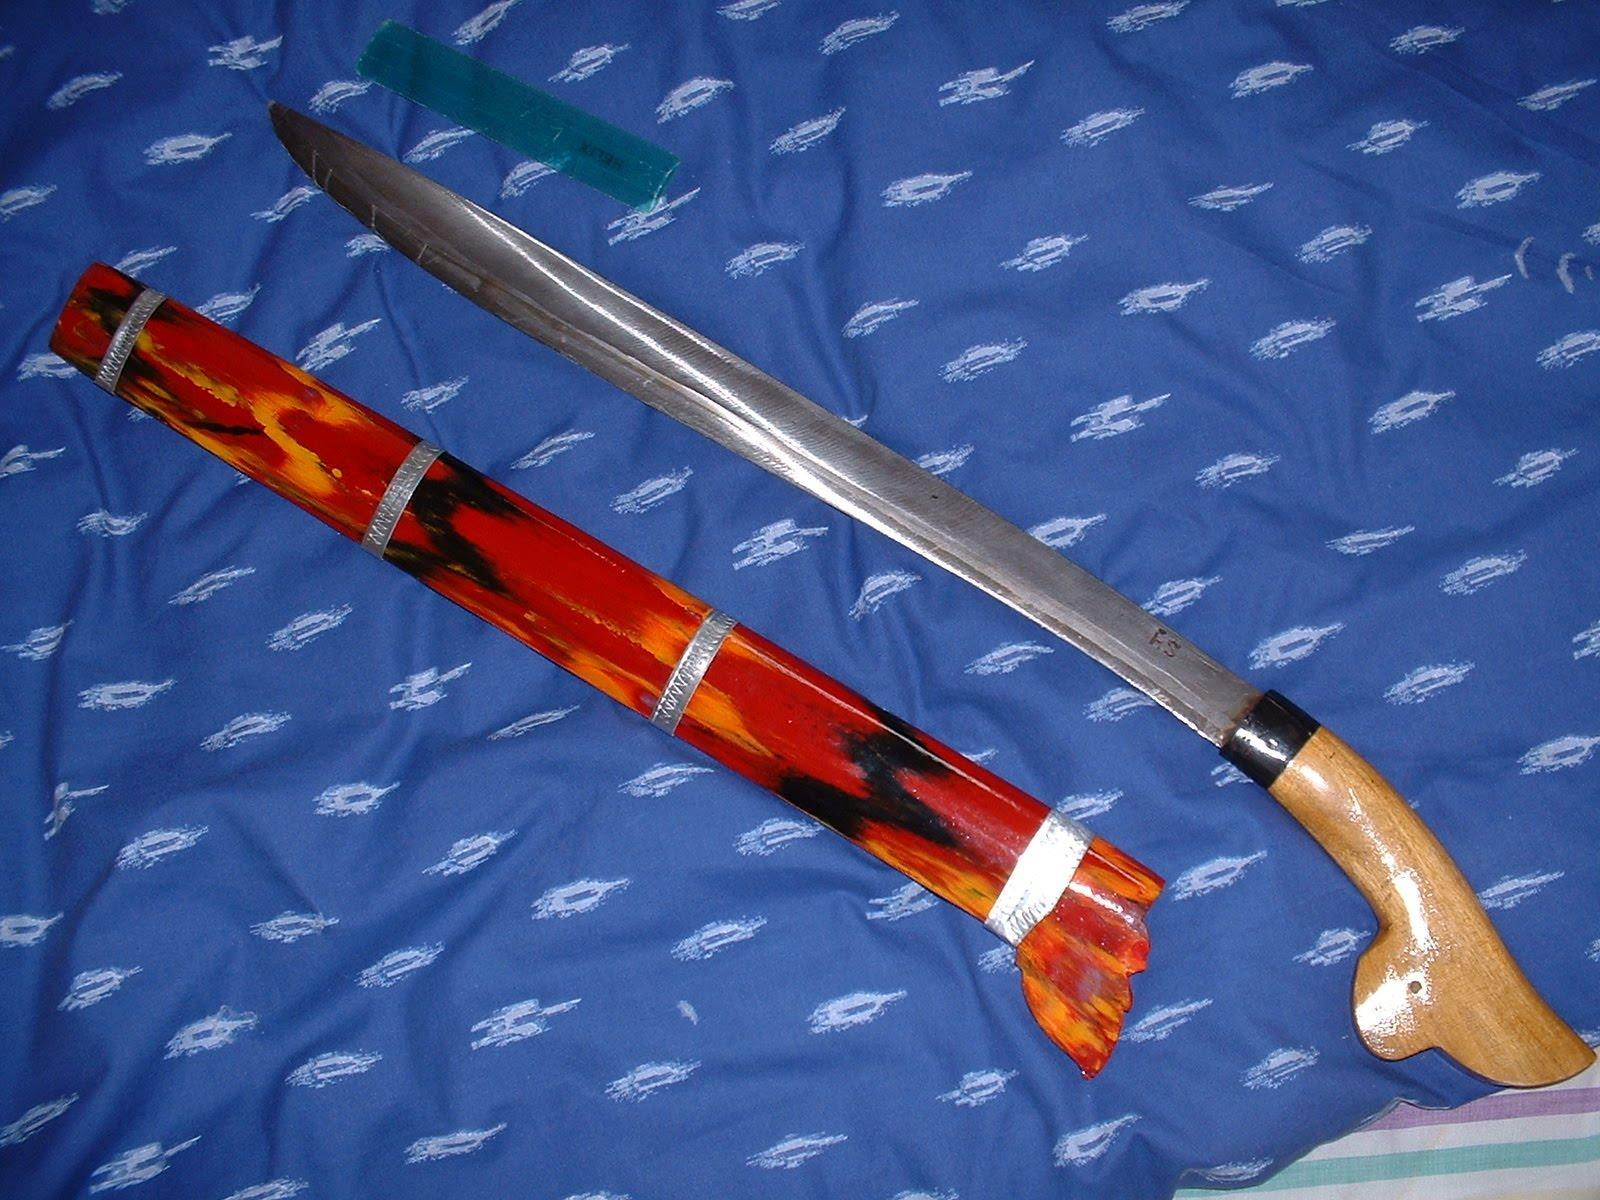facao: (270, 105, 1586, 1087)
